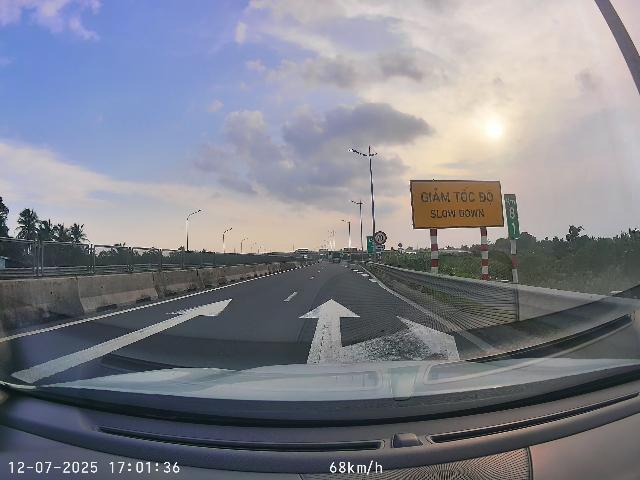127-toc-do-toi-da-70: (373, 231, 387, 245)
